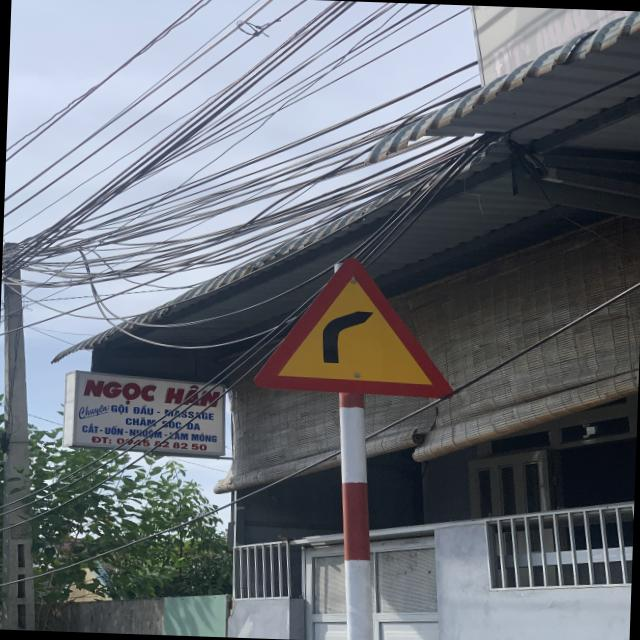Duong_Nguoi_Di_Bo_Cat_Ngang: (252, 255, 459, 400)
